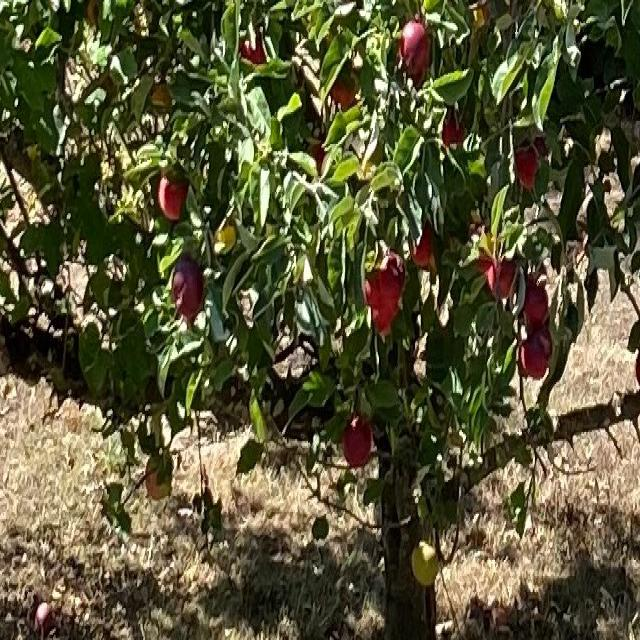Apples: (367, 270, 398, 329), (172, 260, 203, 318), (400, 21, 429, 75), (521, 329, 551, 377), (145, 450, 171, 501), (344, 416, 371, 464), (379, 252, 406, 298), (160, 174, 187, 219), (488, 254, 514, 299), (514, 144, 539, 187), (523, 281, 549, 322), (409, 222, 433, 263), (241, 32, 267, 66), (442, 116, 467, 148), (330, 76, 354, 108)
